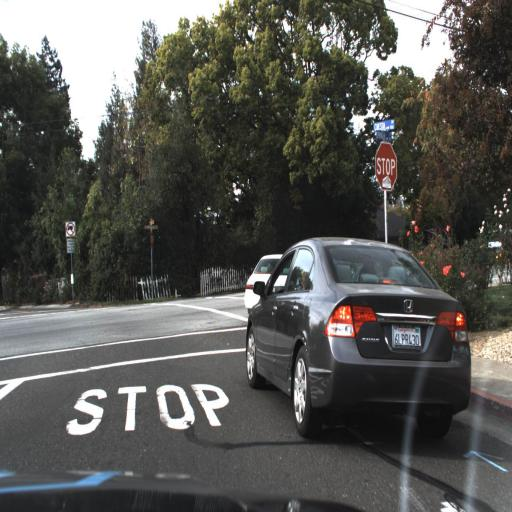car: (236, 224, 478, 448)
